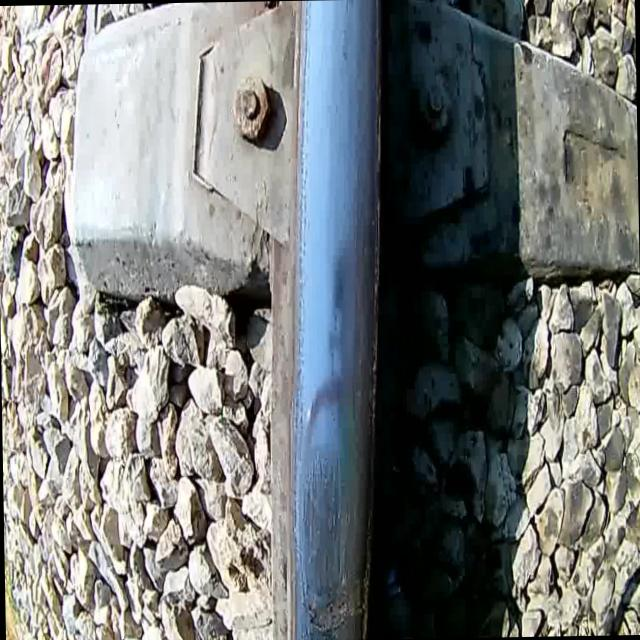Spallings: (301, 583, 366, 640)
Squats: (292, 443, 353, 640)
